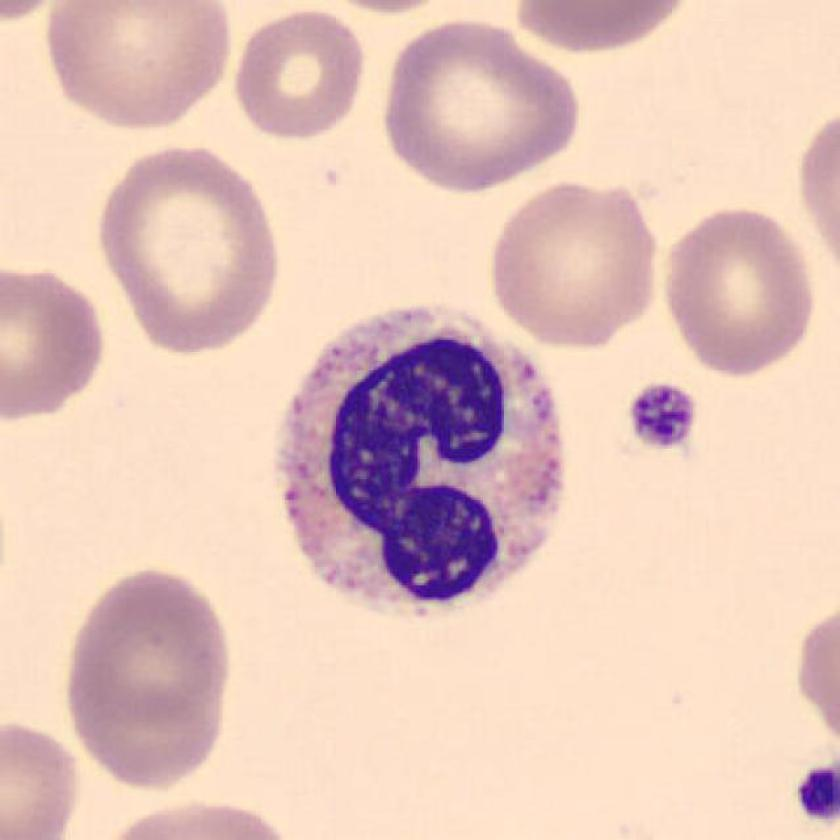neutrophil: (279, 304, 563, 613)
